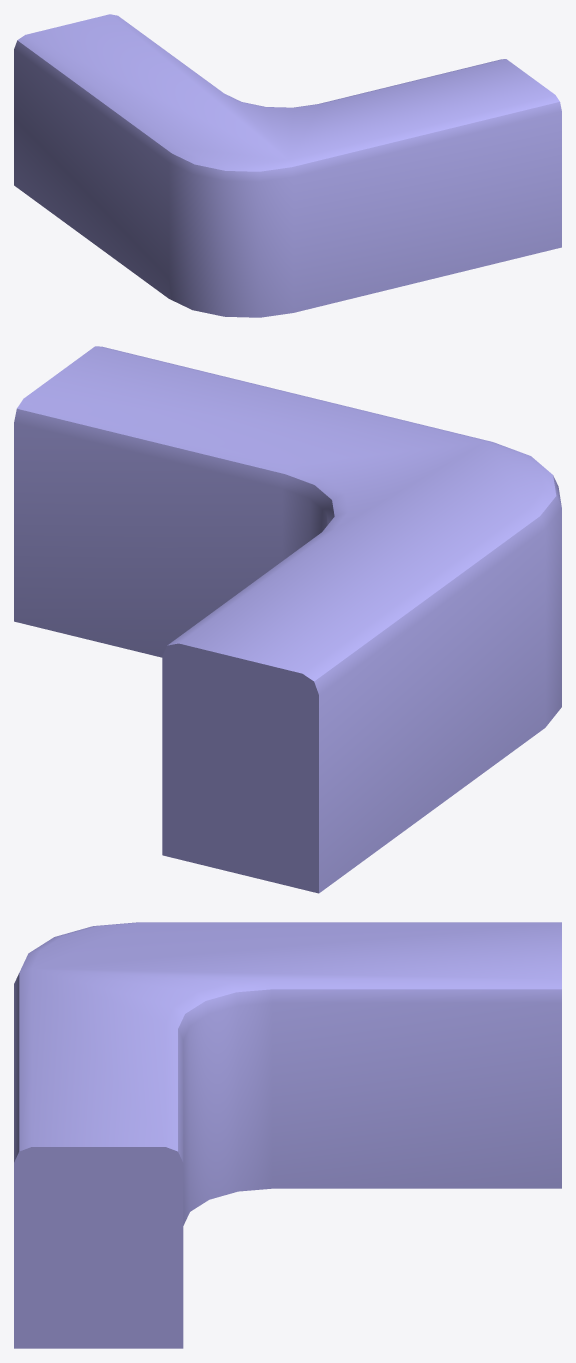
Rendered from Board_FrameCorner.fbx.
The picture shows the model from 3 angles, top to bottom: view 1: azimuth 30°, elevation 25°; view 2: azimuth 150°, elevation 25°; view 3: azimuth 270°, elevation 25°; orthographic projection. The views are drawn at different scales.
Parts seen in each view (by area): view 1: Board_FrameCorner; view 2: Board_FrameCorner; view 3: Board_FrameCorner.
Part boxes in pixels (box(x1,y1,x2,y2)): Board_FrameCorner: box(14, 14, 561, 317); Board_FrameCorner: box(14, 346, 561, 893); Board_FrameCorner: box(14, 922, 561, 1348).
Size of the model in its own units: 0.615 by 0.25 by 0.615.
